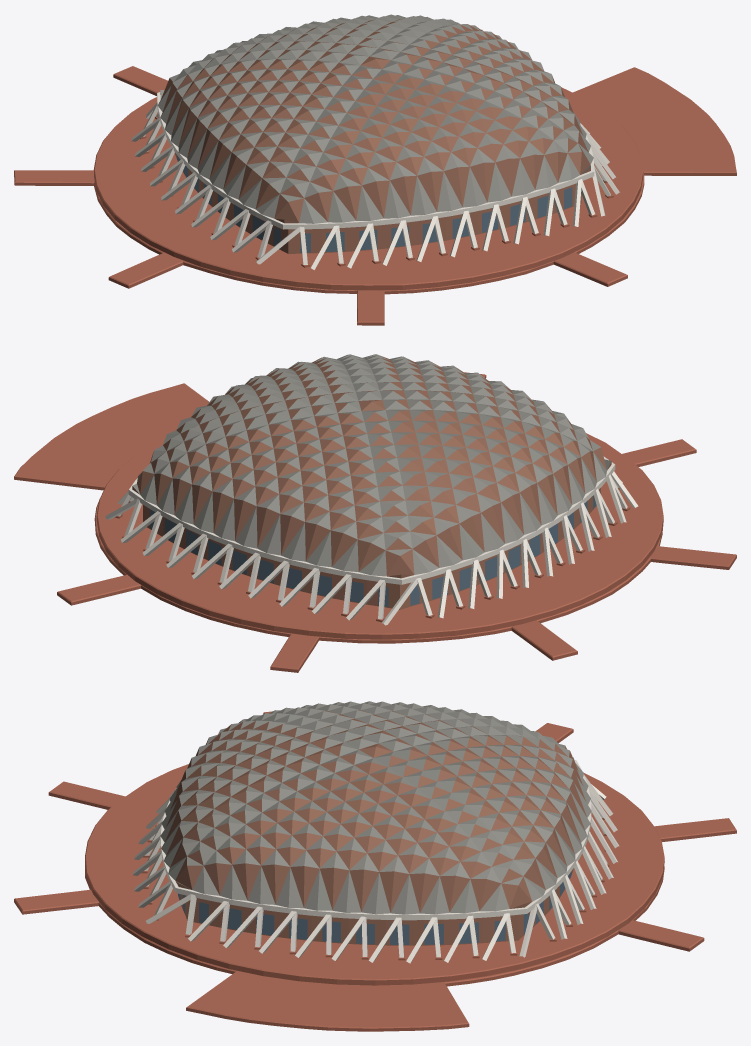
File: mexico-city-palacio-de-los-deportes.glb
3 views of the same model, one above another, from view 1: azimuth 30°, elevation 25°; view 2: azimuth 150°, elevation 25°; view 3: azimuth 270°, elevation 25° (orthographic). The views are drawn at different scales.
Parts seen in each view (by area): view 1: Palacio de los Deportes; view 2: Palacio de los Deportes; view 3: Palacio de los Deportes.
Boxes of the visible parts, x1,y1,x2,y2 form: Palacio de los Deportes: (14, 14, 736, 325); Palacio de los Deportes: (14, 354, 736, 672); Palacio de los Deportes: (14, 701, 736, 1031).
Bounding box in the file's own units: 242 × 43.85 × 231.
